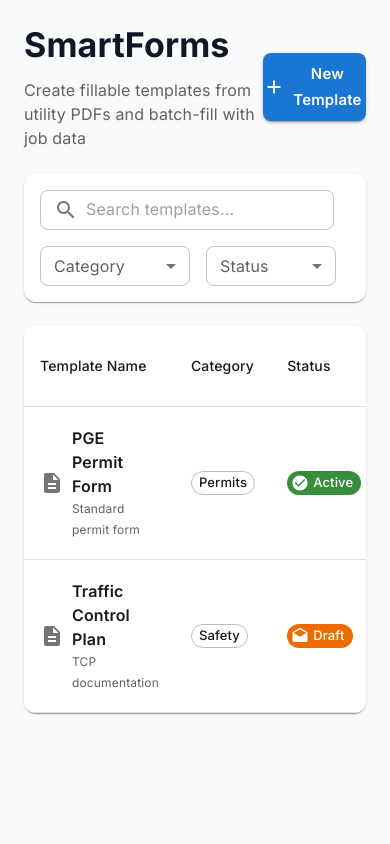
Test: SmartFormsPage Component › Filtering › should filter by search query
Expected: the text "PGE Permit Form" is shown, [72,428,123,496]
Type "Traffic" into the field with placeholder "Search templates..." at (210, 210), box [86,190,334,230]
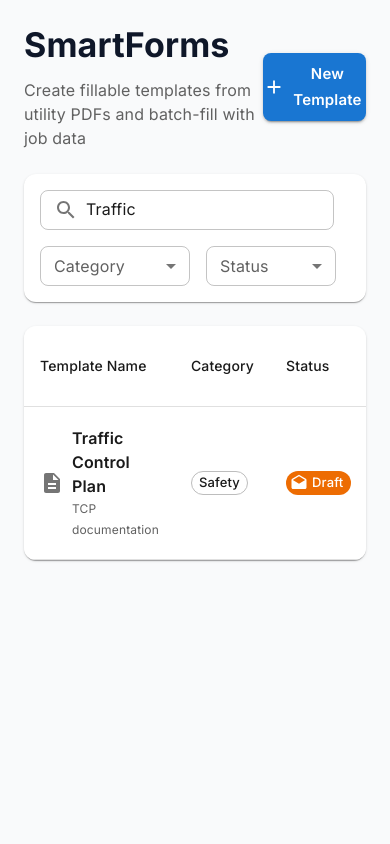
Expected: the text "Traffic Control Plan" is shown, [72,428,130,496]
Result: the text "PGE Permit Form" is gone
